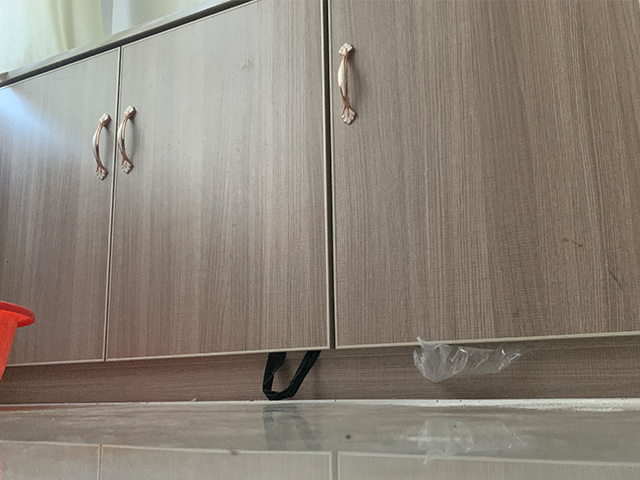cabinet: (1, 1, 639, 405)
